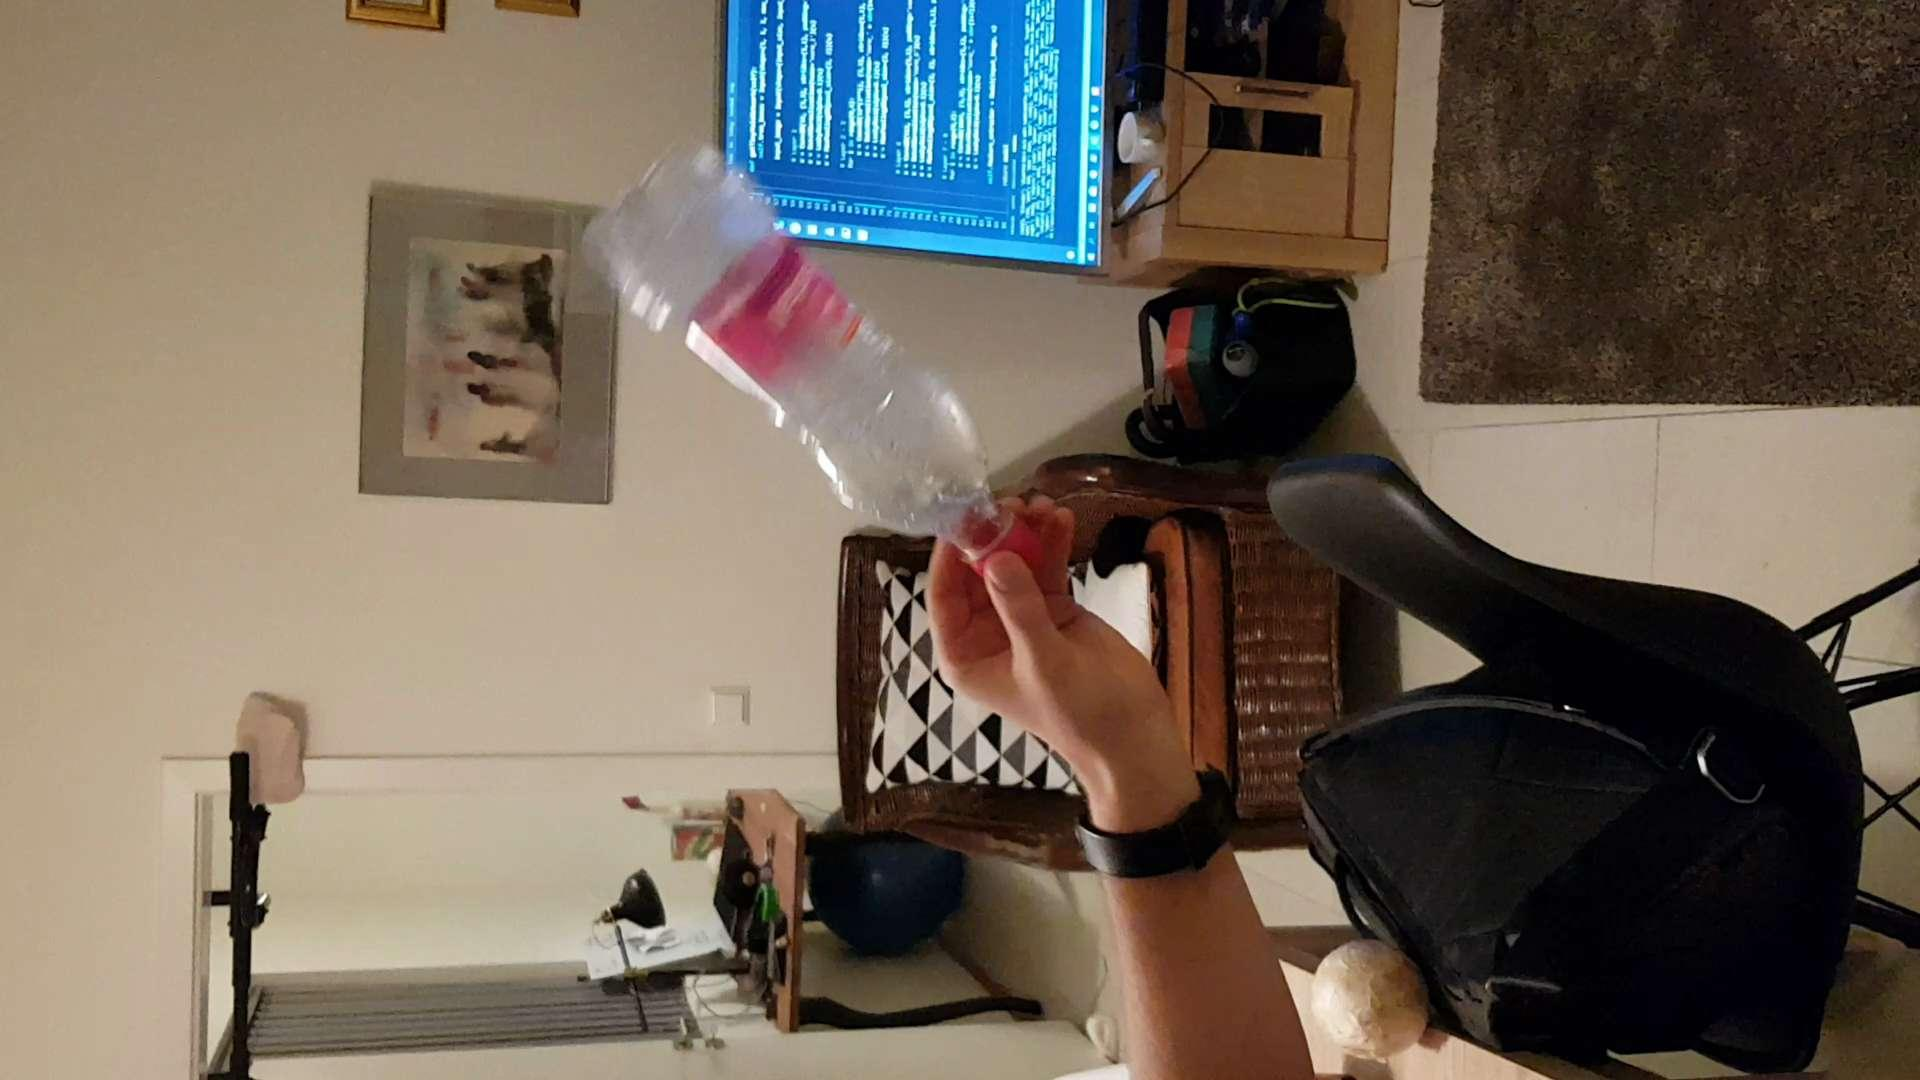Bottle: (574, 133, 1068, 585)
